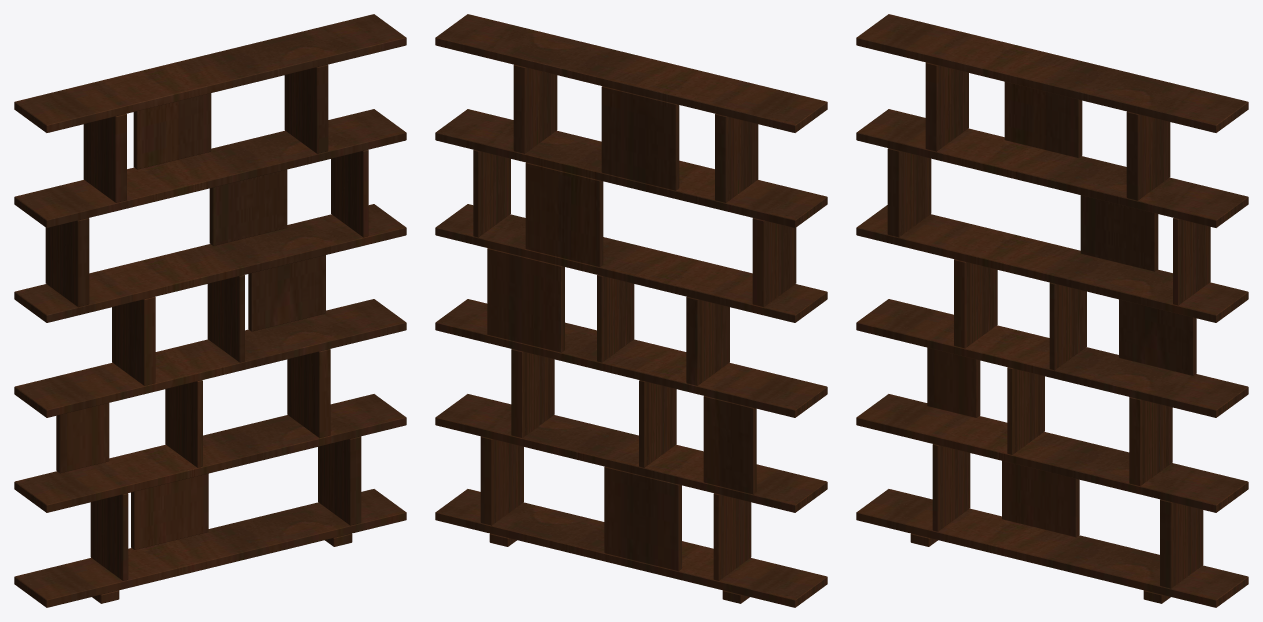
Rendered from jiazi.DAE.
3 views of the same model, side by side, from view 1: azimuth 30°, elevation 25°; view 2: azimuth 150°, elevation 25°; view 3: azimuth 330°, elevation 25° (orthographic).
Parts seen in each view (by area): view 1: Box09; view 2: Box09; view 3: Box09.
Part boxes in pixels (x1=…): Box09: x1=14, y1=14, x2=406, y2=607; Box09: x1=435, y1=14, x2=827, y2=607; Box09: x1=856, y1=14, x2=1248, y2=607.
Size of the model in its own units: 255 by 39.74 by 332.
1 material, 1 textured.
